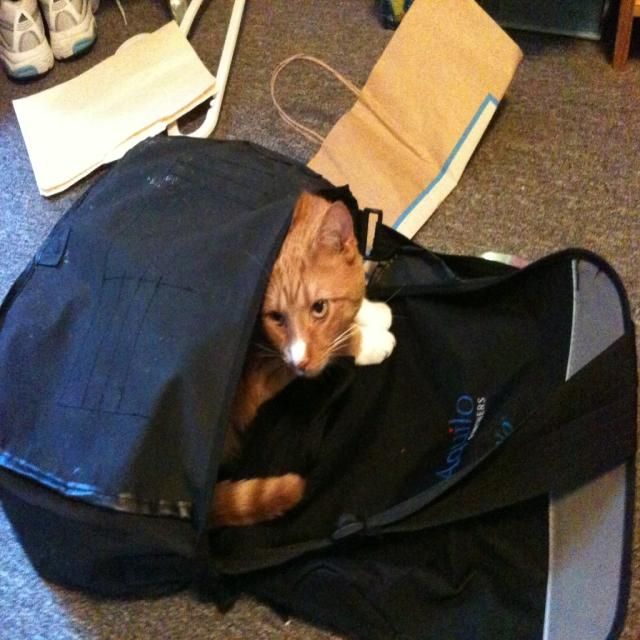Cat: (210, 183, 392, 514)
